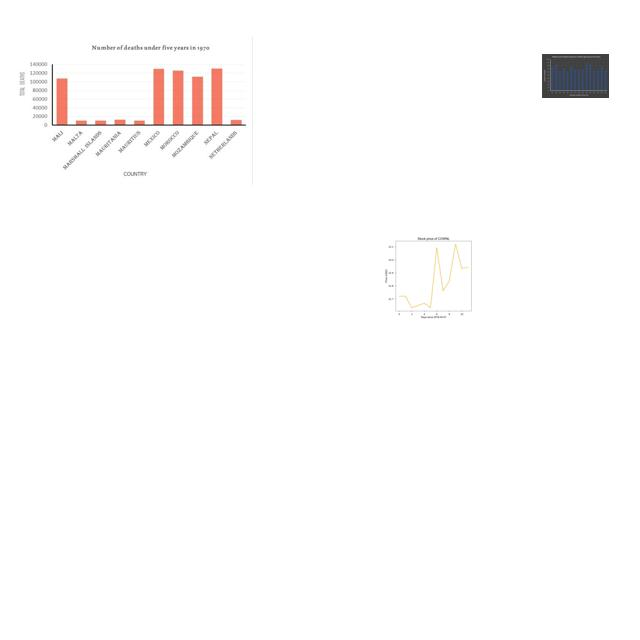Graph: (15, 36, 253, 185), (366, 230, 498, 321), (542, 54, 609, 98)
